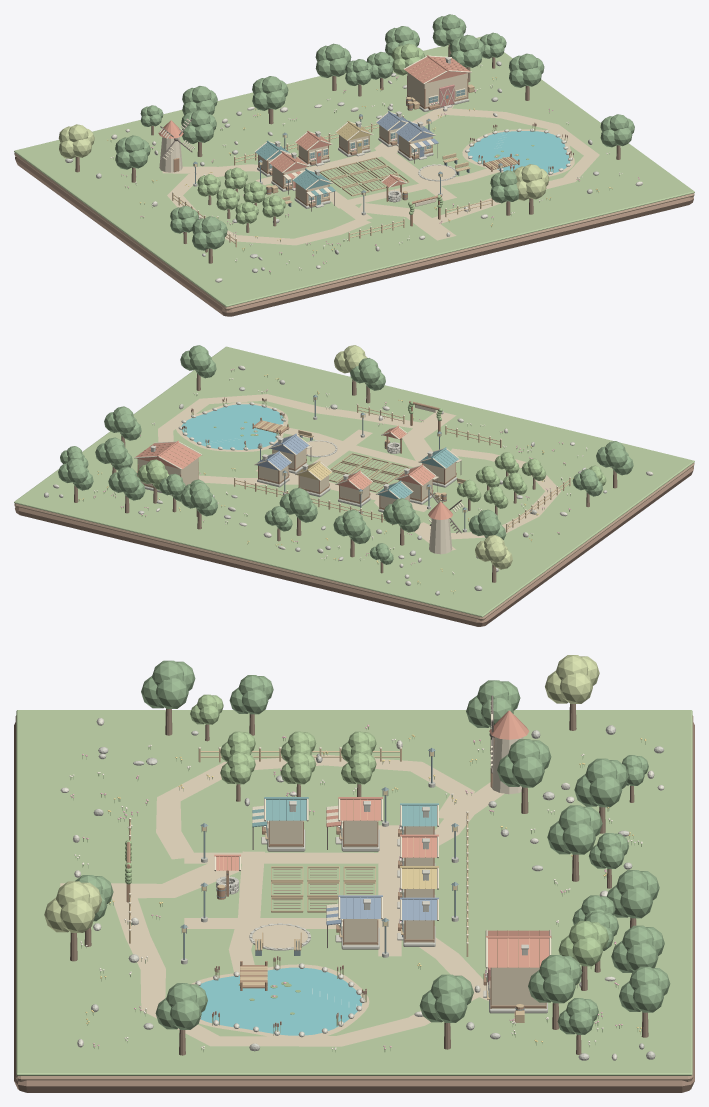
The model's file is MeadowVillage.fbx.
3 views of the same model, one above another, from view 1: azimuth 30°, elevation 25°; view 2: azimuth 150°, elevation 25°; view 3: azimuth 270°, elevation 25° (orthographic). The views are drawn at different scales.
Parts seen in each view (by area): view 1: Meadow_Grass_sector_3_2, Meadow_Sand_sector_3_2, Meadow_EarthDark_sector_3_2, Meadow_Water_sector_3_2, Meadow_Earth_sector_3_2, Meadow_RoofRust_sector_3_2, Meadow_Leaf_sector_5_4, Meadow_Leaf_sector_2_4, Meadow_LeafLight_sector_1_2, Meadow_Leaf_sector_3_4, Meadow_Leaf_sector_5_3, Meadow_Leaf_sector_4_4 (+16 smaller); view 2: Meadow_Grass_sector_3_2, Meadow_Sand_sector_3_2, Meadow_EarthDark_sector_3_2, Meadow_Water_sector_3_2, Meadow_Earth_sector_3_2, Meadow_Leaf_sector_2_4, Meadow_Leaf_sector_5_4, Meadow_RoofRust_sector_3_2, Meadow_LeafLight_sector_1_2, Meadow_Leaf_sector_4_4, Meadow_Leaf_sector_3_4, Meadow_LeafGold_sector_0_4 (+17 smaller); view 3: Meadow_Grass_sector_3_2, Meadow_Sand_sector_3_2, Meadow_EarthDark_sector_3_2, Meadow_Water_sector_3_2, Meadow_Earth_sector_3_2, Meadow_Leaf_sector_2_4, Meadow_Leaf_sector_5_4, Meadow_RoofRust_sector_3_2, Meadow_LeafLight_sector_1_2, Meadow_Leaf_sector_3_4, Meadow_Leaf_sector_4_4, Meadow_Leaf_sector_5_3 (+21 smaller).
Boxes of the visible parts, bbox=[...] form: Meadow_Grass_sector_3_2: bbox=[14, 36, 694, 307]; Meadow_Sand_sector_3_2: bbox=[162, 105, 599, 245]; Meadow_EarthDark_sector_3_2: bbox=[15, 157, 693, 316]; Meadow_Water_sector_3_2: bbox=[467, 131, 570, 174]; Meadow_Earth_sector_3_2: bbox=[14, 153, 694, 310]; Meadow_RoofRust_sector_3_2: bbox=[269, 56, 470, 186]; Meadow_Leaf_sector_5_4: bbox=[432, 14, 506, 67]; Meadow_Leaf_sector_2_4: bbox=[182, 76, 288, 115]; Meadow_LeafLight_sector_1_2: bbox=[197, 167, 266, 210]; Meadow_Leaf_sector_3_4: bbox=[315, 43, 371, 85]; Meadow_Leaf_sector_5_3: bbox=[463, 48, 544, 87]; Meadow_Leaf_sector_4_4: bbox=[366, 26, 419, 79]; Meadow_Grass_sector_3_2: bbox=[14, 346, 694, 617]; Meadow_Sand_sector_3_2: bbox=[158, 394, 561, 550]; Meadow_EarthDark_sector_3_2: bbox=[15, 454, 693, 626]; Meadow_Water_sector_3_2: bbox=[181, 404, 283, 449]; Meadow_Earth_sector_3_2: bbox=[14, 463, 694, 620]; Meadow_Leaf_sector_2_4: bbox=[271, 487, 370, 543]; Meadow_Leaf_sector_5_4: bbox=[58, 437, 132, 490]; Meadow_RoofRust_sector_3_2: bbox=[135, 427, 435, 489]; Meadow_LeafLight_sector_1_2: bbox=[457, 466, 527, 508]; Meadow_Leaf_sector_4_4: bbox=[108, 466, 190, 501]; Meadow_Leaf_sector_3_4: bbox=[180, 479, 275, 525]; Meadow_LeafGold_sector_0_4: bbox=[475, 535, 512, 569]; Meadow_Grass_sector_3_2: bbox=[16, 710, 692, 1075]; Meadow_Sand_sector_3_2: bbox=[60, 754, 504, 1046]; Meadow_EarthDark_sector_3_2: bbox=[14, 722, 694, 1092]; Meadow_Water_sector_3_2: bbox=[199, 967, 362, 1035]; Meadow_Earth_sector_3_2: bbox=[15, 715, 693, 1081]; Meadow_Leaf_sector_2_4: bbox=[547, 758, 628, 868]; Meadow_Leaf_sector_5_4: bbox=[539, 955, 670, 1034]; Meadow_RoofRust_sector_3_2: bbox=[216, 799, 549, 967]; Meadow_LeafLight_sector_1_2: bbox=[280, 731, 376, 784]; Meadow_Leaf_sector_3_4: bbox=[572, 846, 659, 924]; Meadow_Leaf_sector_4_4: bbox=[584, 909, 664, 972]; Meadow_Leaf_sector_5_3: bbox=[419, 970, 551, 1022].
Size of the model in its own units: 5600 by 745 by 4400.
